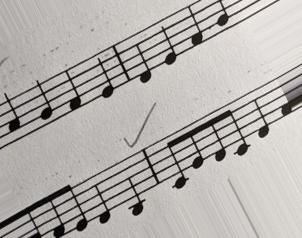A: (0, 93, 23, 139)
D: (92, 168, 113, 228), (133, 30, 154, 87), (60, 69, 86, 114), (251, 89, 271, 143)
E: (158, 16, 180, 70), (94, 53, 116, 102)
F: (185, 1, 207, 52)
G: (30, 76, 56, 127)
